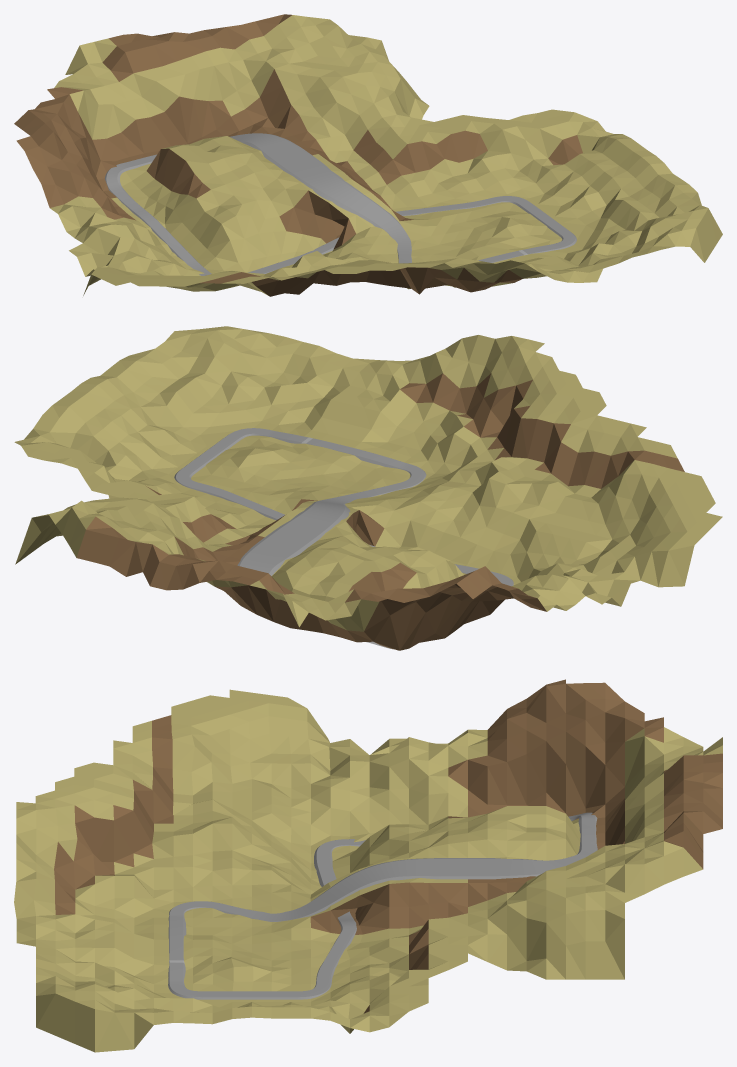
The model's file is track_infinitrack.fbx.
3 views of the same model, one above another, from view 1: azimuth 30°, elevation 25°; view 2: azimuth 150°, elevation 25°; view 3: azimuth 270°, elevation 25° (orthographic). The views are drawn at different scales.
Visible parts, largest first — view 1: track_infinitrack_terrain, track_infinitrack_road; view 2: track_infinitrack_terrain, track_infinitrack_road; view 3: track_infinitrack_terrain, track_infinitrack_road.
Part boxes in pixels (x1,y1,x2,y2): track_infinitrack_terrain: [14, 14, 722, 296]; track_infinitrack_road: [104, 133, 576, 275]; track_infinitrack_terrain: [14, 326, 722, 650]; track_infinitrack_road: [174, 428, 513, 649]; track_infinitrack_terrain: [14, 679, 722, 1052]; track_infinitrack_road: [168, 812, 597, 999].
Size of the model in its own units: 760 by 147 by 723.
